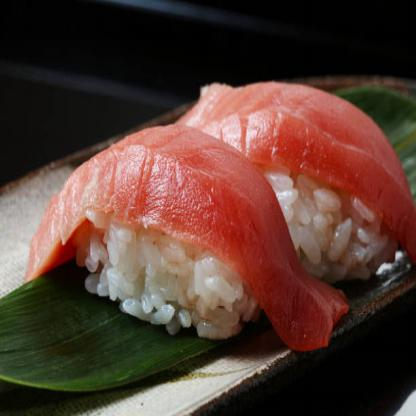toro: (11, 117, 354, 359)
